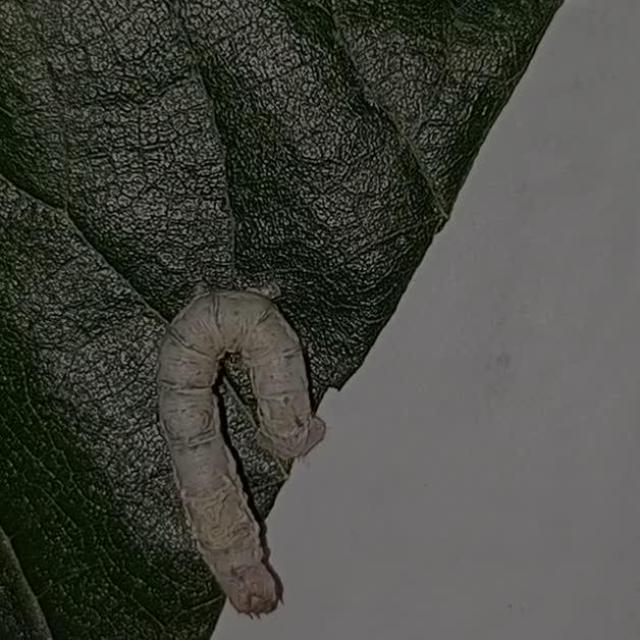Healthy: (125, 237, 397, 640)
